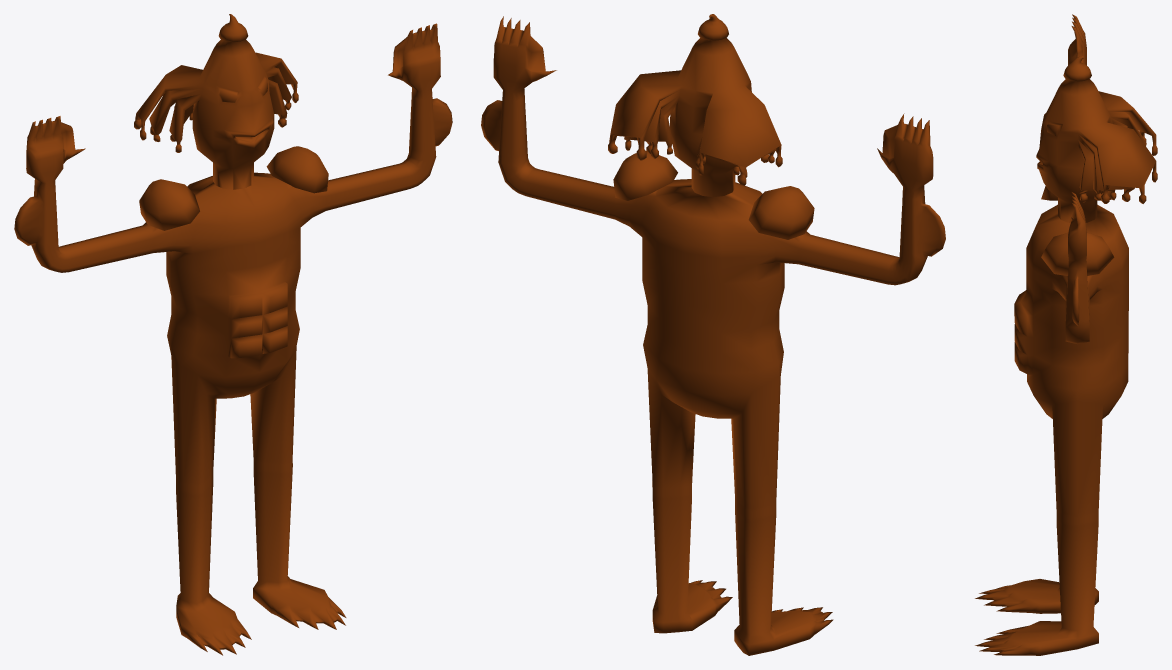
The model's file is Choco Creature.obj.
The picture shows the model from 3 angles, left to right: view 1: azimuth 30°, elevation 25°; view 2: azimuth 150°, elevation 25°; view 3: azimuth 270°, elevation 25°; orthographic projection. The views are drawn at different scales.
Parts seen in each view (by area): view 1: Choco_Creature; view 2: Choco_Creature; view 3: Choco_Creature.
Boxes of the visible parts, x1,y1,x2,y2 form: Choco_Creature: [14, 14, 452, 655]; Choco_Creature: [481, 14, 945, 655]; Choco_Creature: [975, 14, 1157, 655].
Bounding box in the file's own units: 156 × 200 × 58.57.
